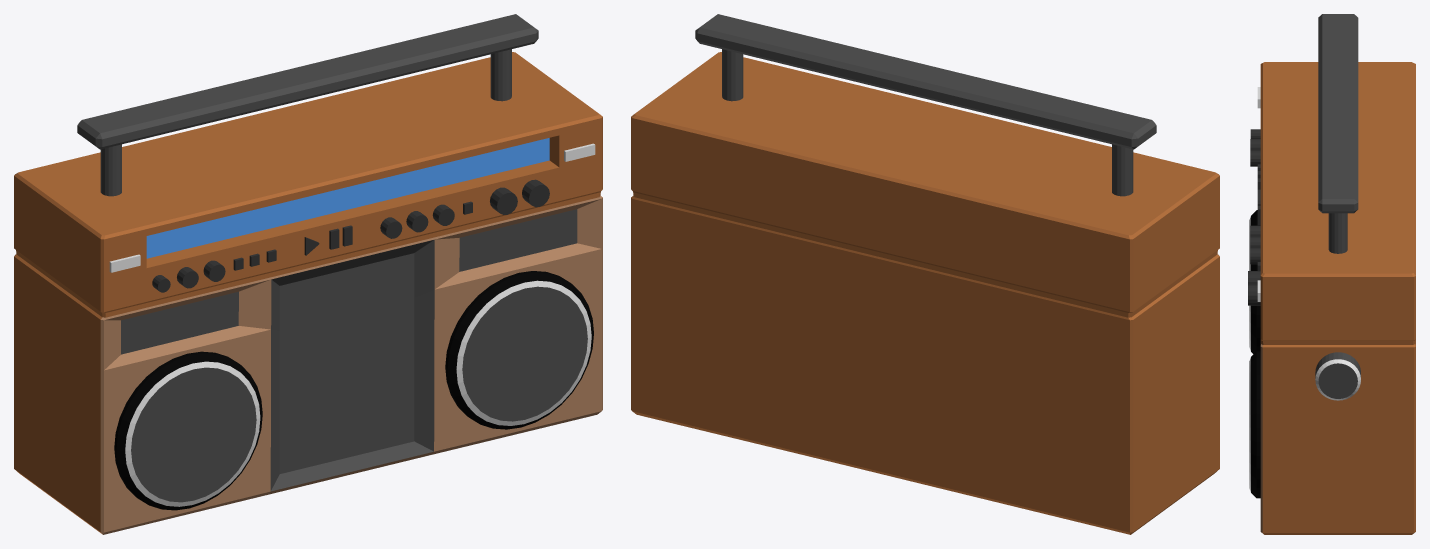
Rendered from BoomBox.fbx.
The picture shows the model from 3 angles, left to right: view 1: azimuth 30°, elevation 25°; view 2: azimuth 150°, elevation 25°; view 3: azimuth 270°, elevation 25°; orthographic projection. The views are drawn at different scales.
Visible parts, largest first — view 1: Boombox_LOD0; view 2: Boombox_LOD0; view 3: Boombox_LOD0.
Part boxes in pixels (<box>): Boombox_LOD0: <box>14,14,602,534</box>; Boombox_LOD0: <box>631,14,1219,534</box>; Boombox_LOD0: <box>1248,14,1415,534</box>.
Size of what is drawn, in the model's own units: 594 by 403 by 190.
